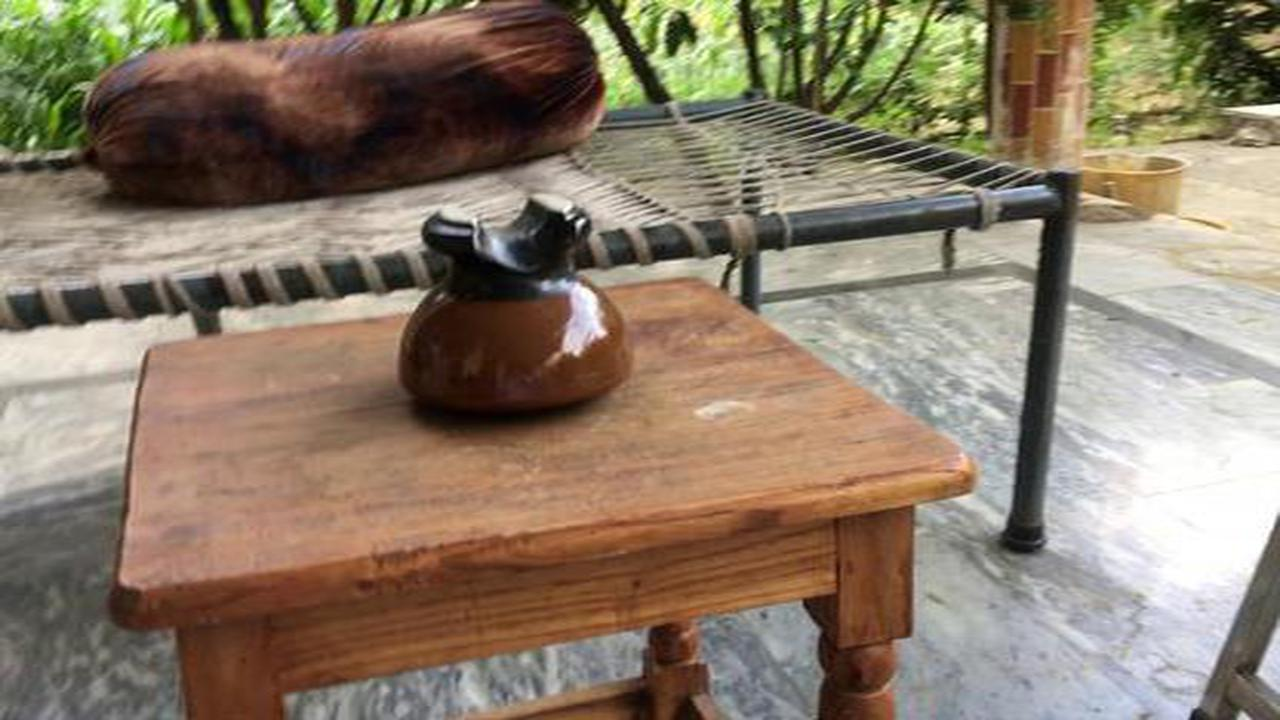insulator_pin: (382, 182, 647, 442)
